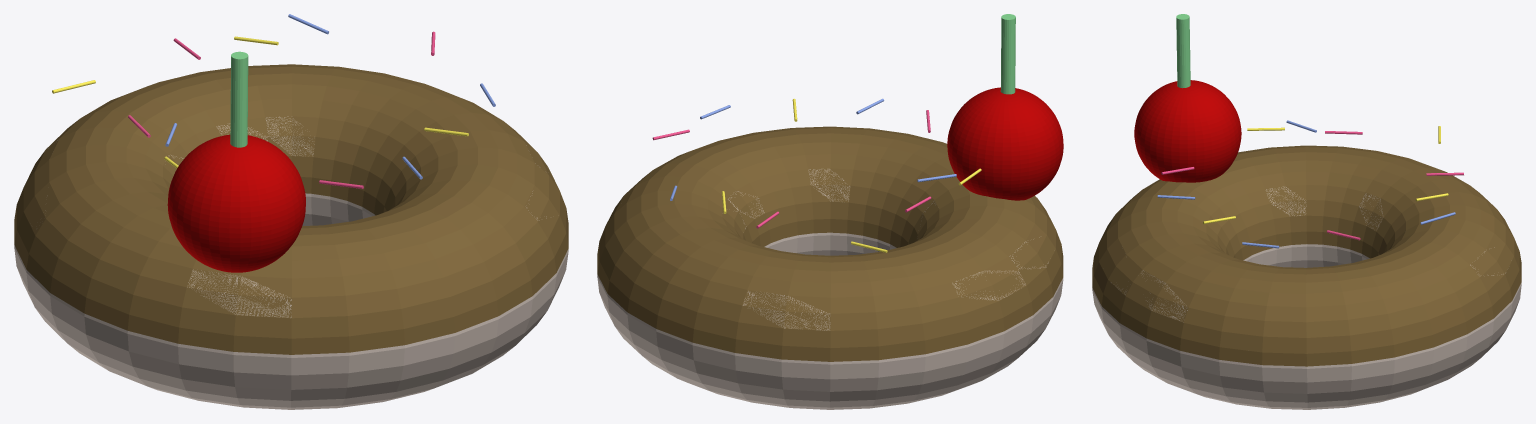
The model's file is dessert_model.glb.
The picture shows the model from 3 angles, left to right: view 1: azimuth 30°, elevation 25°; view 2: azimuth 150°, elevation 25°; view 3: azimuth 270°, elevation 25°; orthographic projection. The views are drawn at different scales.
Parts seen in each view (by area): view 1: Object_14, Object_16, Object_9, Object_8; view 2: Object_14, Object_16, Object_9, Object_8; view 3: Object_14, Object_16, Object_9, Object_8.
Boxes of the visible parts, bbox=[...] form: Object_14: bbox=[14, 64, 568, 354]; Object_16: bbox=[14, 116, 568, 409]; Object_9: bbox=[167, 134, 305, 272]; Object_8: bbox=[230, 51, 248, 147]; Object_14: bbox=[597, 126, 1063, 361]; Object_16: bbox=[597, 169, 1063, 409]; Object_9: bbox=[947, 87, 1063, 200]; Object_8: bbox=[1000, 14, 1015, 94]; Object_14: bbox=[1092, 145, 1521, 366]; Object_16: bbox=[1092, 186, 1521, 409]; Object_9: bbox=[1134, 80, 1241, 182]; Object_8: bbox=[1176, 14, 1190, 88].
Bounding box in the file's own units: 322 × 228 × 320.
